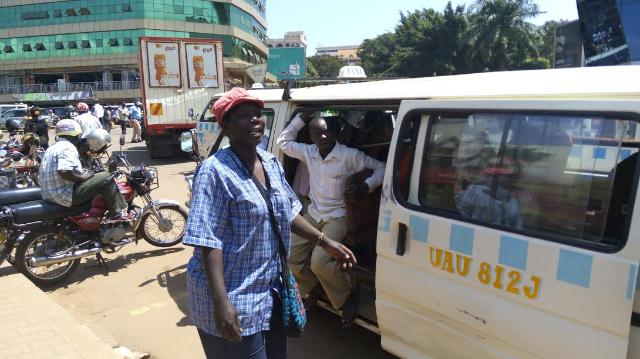motorcycle: (0, 149, 189, 290)
truck: (137, 35, 224, 156)
van: (312, 68, 639, 358)
